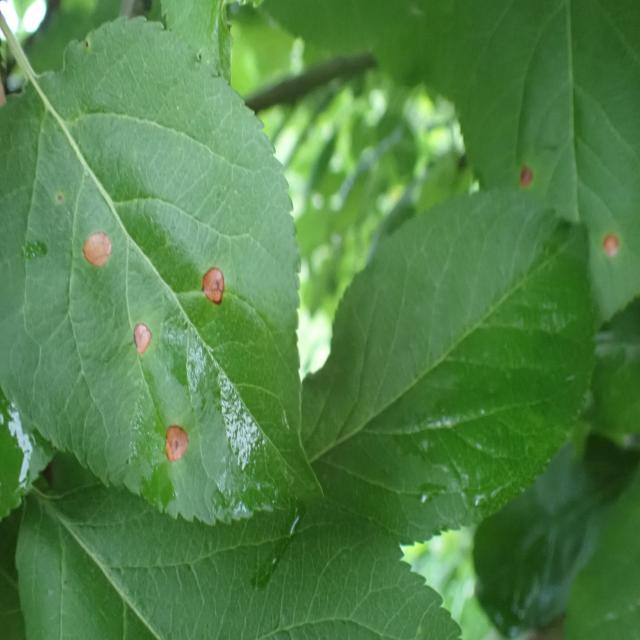Black Rot: (190, 256, 243, 342), (506, 125, 559, 209), (591, 204, 628, 282), (154, 425, 204, 476), (74, 214, 114, 272), (121, 313, 157, 368)
